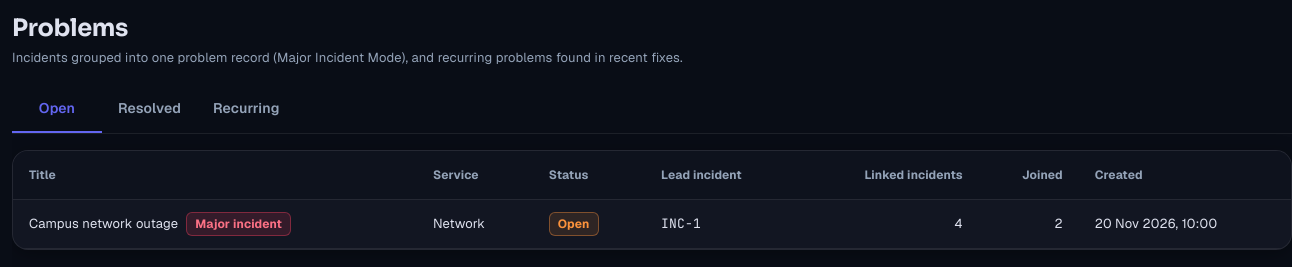
Test case: remaining Task 3 screens › shows major-incident problem rows and switches to the resolved tab
Expected: the text "Campus network outage" is shown, [29,214,178,234]
Expected: the text "Major incident" is shown, [195,216,282,232]
Click the tab "Resolved".
click(150, 109)  # box [102,85,197,133]
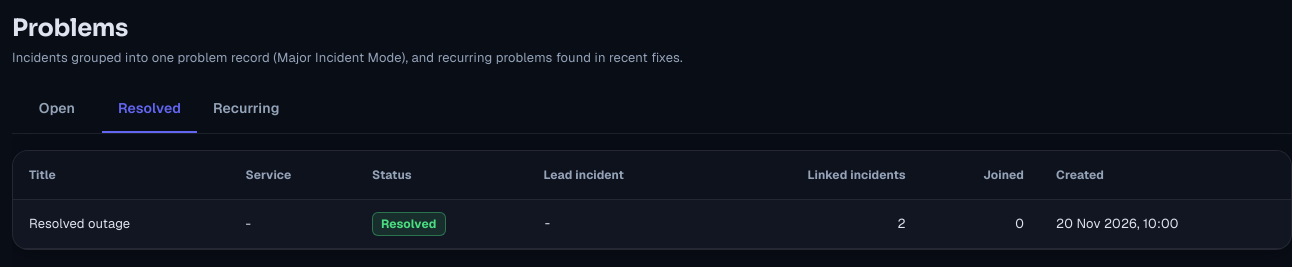
Now the text "Resolved outage" is shown, box [29,214,130,234]
